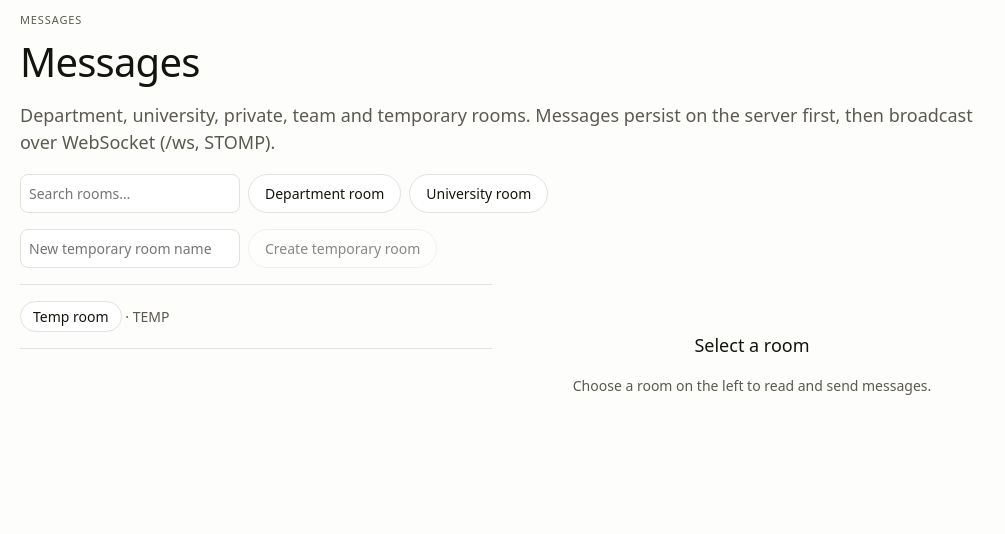
Test: Fix 3 — member Remove only for the room admin, never the creator › admin (creator, first member) sees Remove for other members but not self
Click the button "Temp room". click: (71, 316)
box: top-left (20, 300), bottom-right (122, 332)
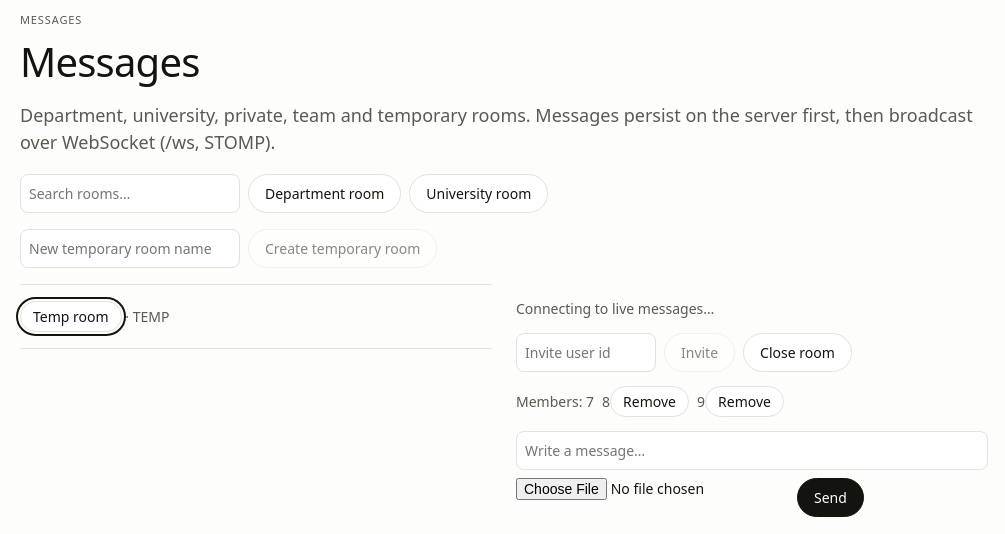
Result: the number of buttons "Remove" is 2 at top-left (610, 386), bottom-right (689, 416); top-left (705, 386), bottom-right (784, 416)
